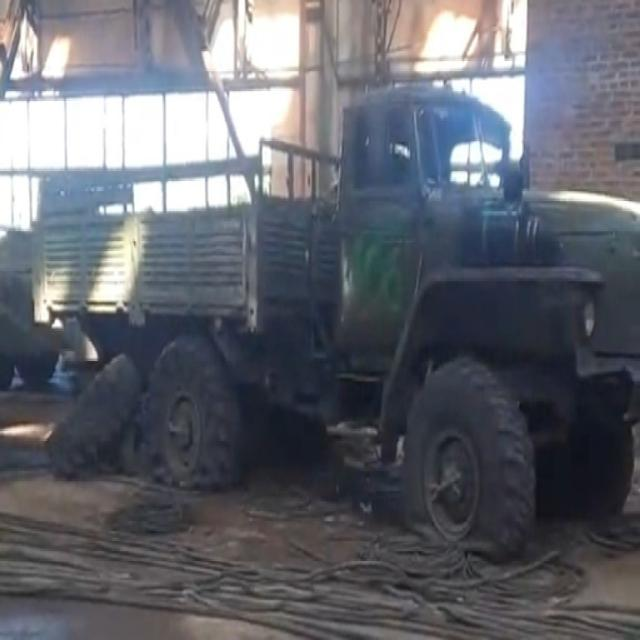TRUCK: (34, 67, 638, 571)
